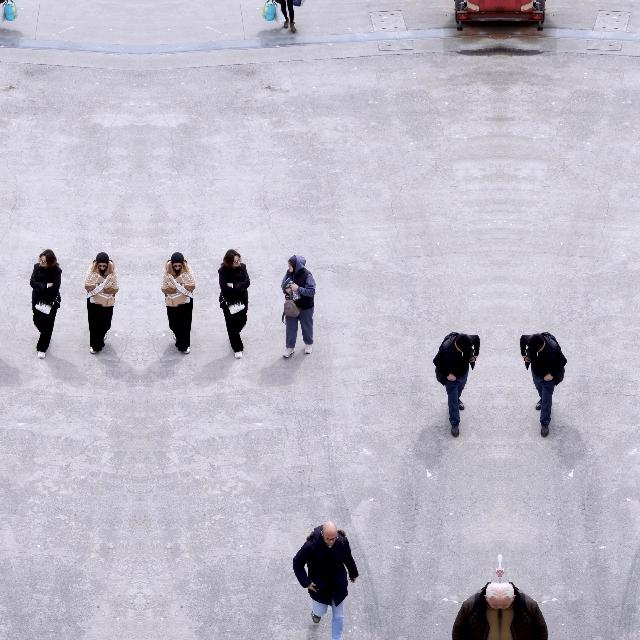person: (292, 522, 360, 640), (432, 332, 480, 438), (520, 332, 568, 438), (280, 254, 316, 358), (218, 249, 250, 359), (30, 249, 62, 359), (161, 252, 195, 354), (85, 252, 119, 354), (452, 582, 500, 640), (500, 582, 548, 640), (275, 0, 297, 32), (0, 0, 5, 32)
